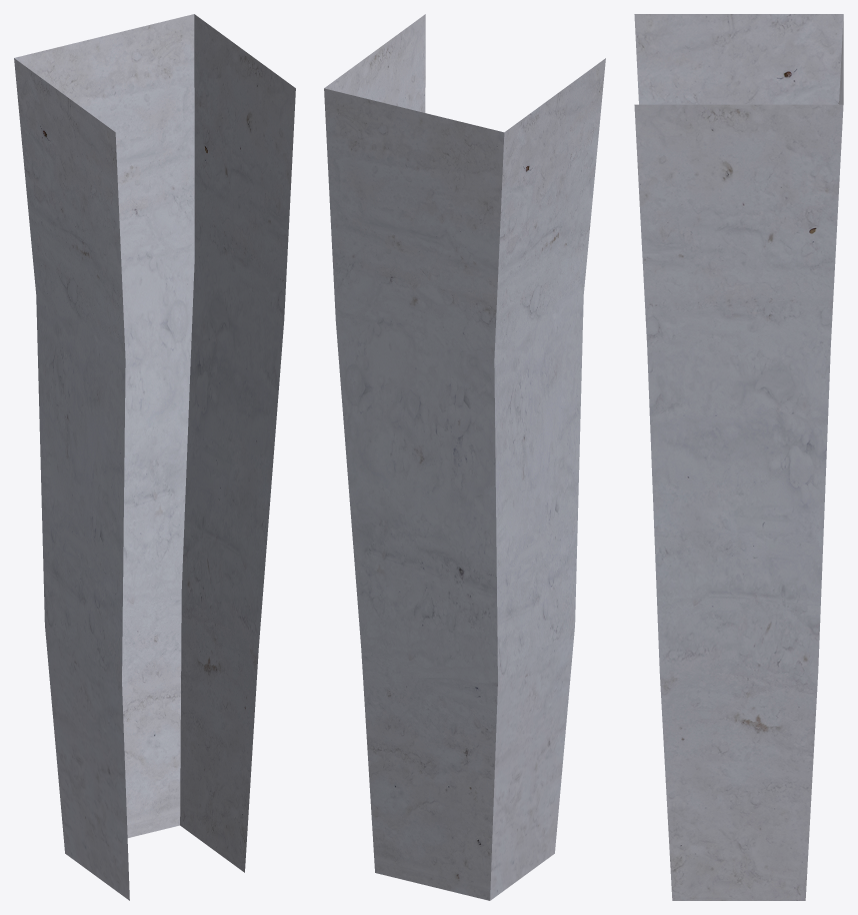
Rendered from pillar.FBX.
3 renders of one model, left to right at view 1: azimuth 30°, elevation 25°; view 2: azimuth 150°, elevation 25°; view 3: azimuth 270°, elevation 25°, orthographic. The views are drawn at different scales.
Visible parts, largest first — view 1: Box004; view 2: Box004; view 3: Box004.
Boxes of the visible parts, x1,y1,x2,y2 form: Box004: (14, 14, 295, 900); Box004: (324, 14, 605, 900); Box004: (634, 14, 843, 900).
Bounding box in the file's own units: 281 × 1175 × 274.
